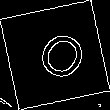O_SW: (23, 22, 87, 88)
